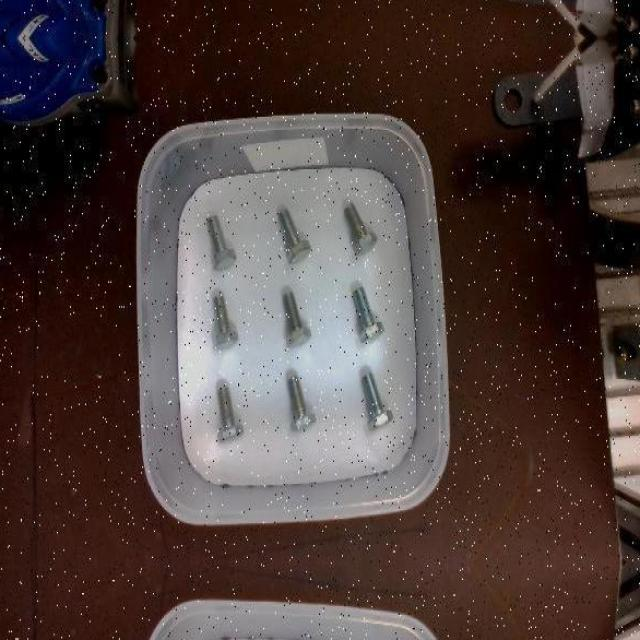screw: (362, 371, 393, 431), (278, 210, 312, 264), (354, 285, 384, 342), (345, 203, 378, 254), (214, 386, 244, 442), (206, 214, 236, 269), (283, 292, 312, 346), (287, 376, 316, 430), (210, 295, 238, 350)
